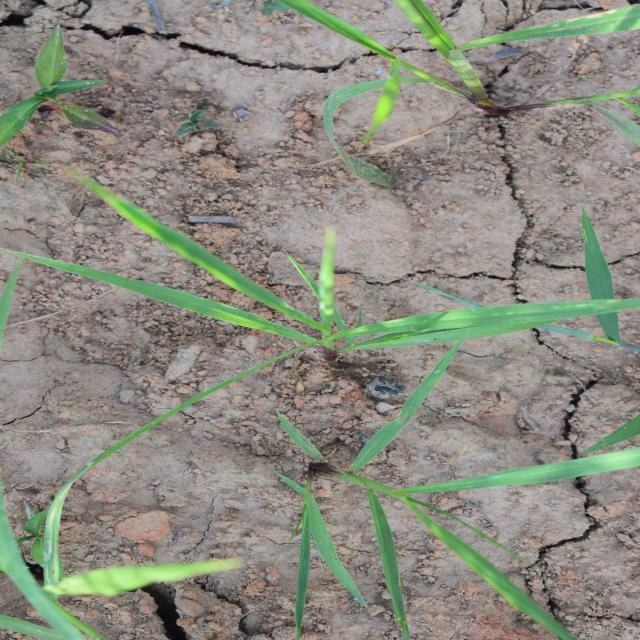green_foxtail: (260, 32, 428, 614), (3, 243, 212, 614)
